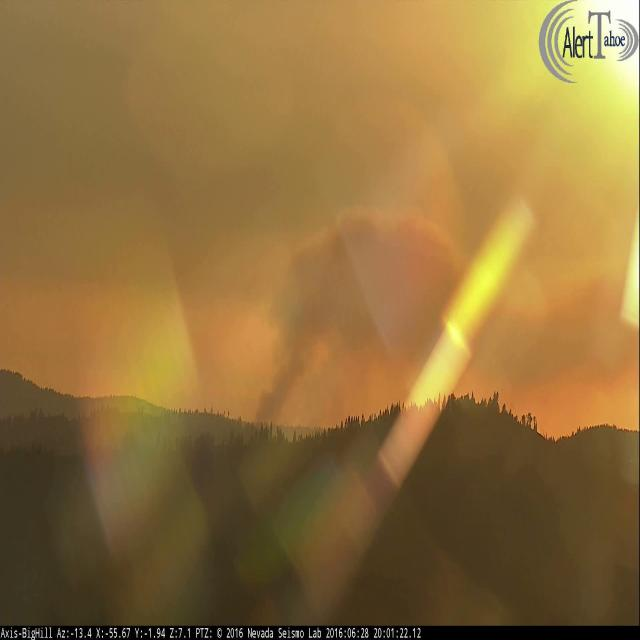smoke: (252, 193, 470, 433)
